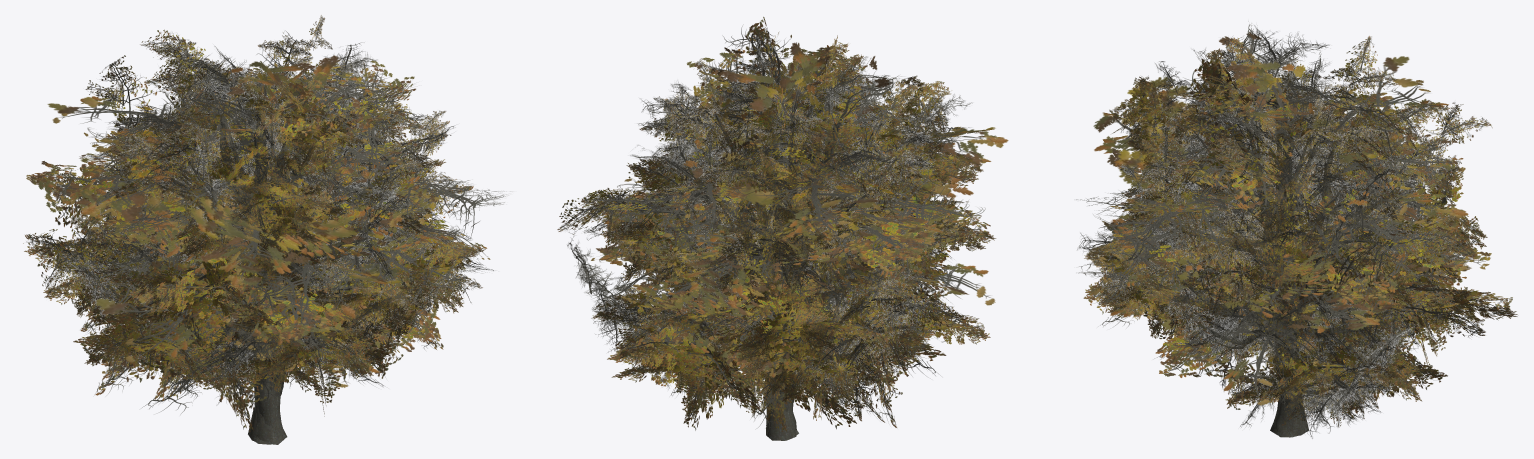
Rendered from november-oaks.glb.
3 views of the same model, side by side, from view 1: azimuth 30°, elevation 25°; view 2: azimuth 150°, elevation 25°; view 3: azimuth 270°, elevation 25° (orthographic). The views are drawn at different scales.
Visible parts, largest first — view 1: mature2_1_leaves, medium3_0_leaves, mature2_0_leaves, mature3_1_leaves, mature3_0_leaves, medium3_1_leaves, small1_0_leaves, medium3_2_leaves, small1_1_leaves, sapling2_0_leaves, medium2_0_leaves, small3_0_leaves (+26 smaller); view 2: medium3_0_leaves, mature2_1_leaves, mature2_0_leaves, mature3_1_leaves, mature3_0_leaves, medium3_1_leaves, medium1_0_leaves, medium3_2_leaves, medium1_1_leaves, mature3_2_leaves, sapling2_0_leaves, small1_0_leaves (+22 smaller); view 3: mature3_1_leaves, mature3_0_leaves, medium3_0_leaves, medium1_0_leaves, mature2_0_leaves, medium2_0_leaves, medium1_1_leaves, mature2_1_leaves, medium2_1_leaves, small2_0_leaves, medium3_1_leaves, mature1_0_leaves (+24 smaller).
Part boxes in pixels (bbox=[...]): mature2_1_leaves: bbox=[43, 77, 485, 401]; medium3_0_leaves: bbox=[27, 72, 444, 414]; mature2_0_leaves: bbox=[44, 79, 483, 403]; mature3_1_leaves: bbox=[25, 15, 480, 395]; mature3_0_leaves: bbox=[23, 17, 479, 391]; medium3_1_leaves: bbox=[24, 73, 445, 418]; small1_0_leaves: bbox=[26, 73, 439, 352]; medium3_2_leaves: bbox=[37, 68, 437, 431]; small1_1_leaves: bbox=[26, 75, 443, 352]; sapling2_0_leaves: bbox=[76, 55, 435, 323]; medium2_0_leaves: bbox=[67, 44, 483, 395]; small3_0_leaves: bbox=[90, 72, 504, 359]; medium3_0_leaves: bbox=[592, 55, 993, 414]; mature2_1_leaves: bbox=[600, 42, 983, 423]; mature2_0_leaves: bbox=[602, 42, 982, 421]; mature3_1_leaves: bbox=[615, 60, 960, 421]; mature3_0_leaves: bbox=[619, 58, 959, 418]; medium3_1_leaves: bbox=[591, 54, 995, 416]; medium1_0_leaves: bbox=[557, 83, 963, 363]; medium3_2_leaves: bbox=[601, 54, 987, 429]; medium1_1_leaves: bbox=[558, 85, 965, 362]; mature3_2_leaves: bbox=[617, 58, 968, 427]; sapling2_0_leaves: bbox=[596, 42, 1008, 295]; small1_0_leaves: bbox=[584, 43, 972, 374]; mature3_1_leaves: bbox=[1092, 51, 1490, 427]; mature3_0_leaves: bbox=[1092, 49, 1488, 426]; medium3_0_leaves: bbox=[1121, 38, 1516, 407]; medium1_0_leaves: bbox=[1153, 36, 1485, 363]; mature2_0_leaves: bbox=[1084, 51, 1485, 394]; medium2_0_leaves: bbox=[1080, 26, 1444, 386]; medium1_1_leaves: bbox=[1154, 36, 1485, 362]; mature2_1_leaves: bbox=[1084, 50, 1487, 396]; medium2_1_leaves: bbox=[1080, 30, 1444, 387]; small2_0_leaves: bbox=[1093, 78, 1472, 376]; medium3_1_leaves: bbox=[1121, 37, 1517, 409]; mature1_0_leaves: bbox=[1117, 39, 1414, 429].
Size of the model in its own units: 1.09 by 1 by 1.15.
4 materials, 4 textured.
